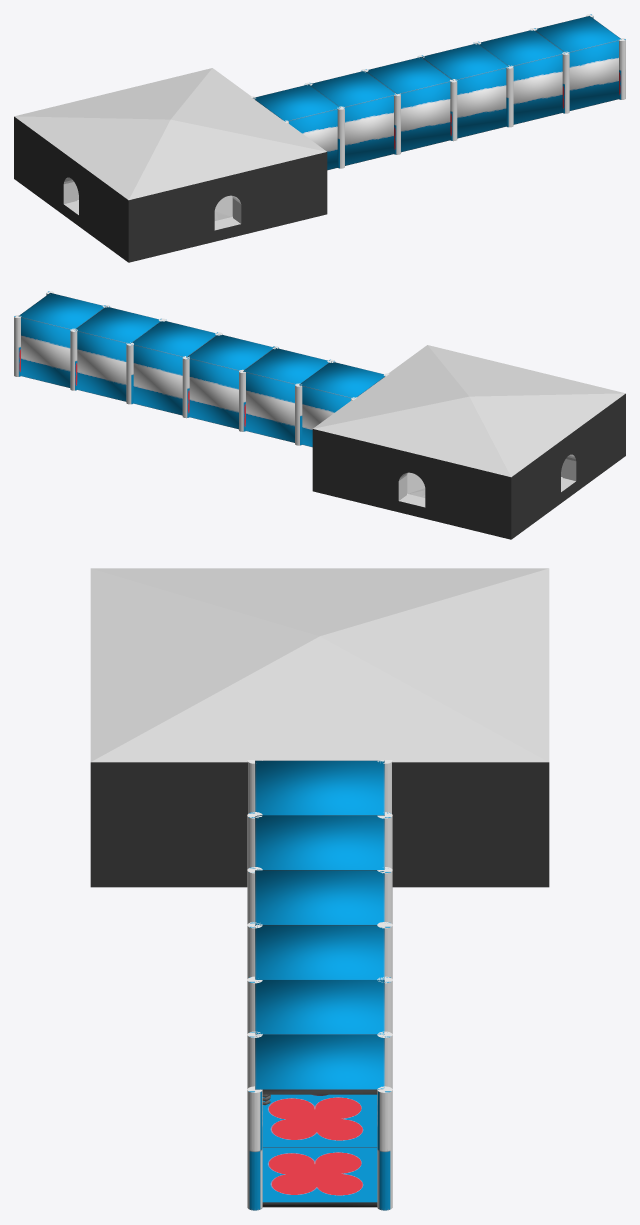
File: big_room_test.fbx
The picture shows the model from 3 angles, top to bottom: view 1: azimuth 30°, elevation 25°; view 2: azimuth 150°, elevation 25°; view 3: azimuth 270°, elevation 25°; orthographic projection. The views are drawn at different scales.
Visible parts, largest first — view 1: Cube.003, Cube.010, Cube.007, Cube.011, Cube.008, Cube.009, Cube.004; view 2: Cube.003, Cube.010, Cube.007, Cube.011, Cube.008, Cube.009, Cube.004; view 3: Cube.003, Cube.011, Cube.010, Cube.009, Cube.004, Cube.008, Cube.007.
Boxes of the visible parts, box(x1,y1,x2,y2) form: Cube.003: box(14, 68, 327, 262); Cube.010: box(473, 28, 569, 127); Cube.007: box(304, 69, 400, 168); Cube.011: box(531, 14, 625, 113); Cube.008: box(361, 55, 456, 154); Cube.009: box(422, 41, 513, 140); Cube.004: box(250, 83, 344, 170); Cube.003: box(312, 345, 625, 539); Cube.010: box(70, 305, 166, 404); Cube.007: box(239, 346, 335, 445); Cube.011: box(14, 291, 109, 390); Cube.008: box(182, 332, 278, 431); Cube.009: box(126, 318, 221, 417); Cube.004: box(295, 359, 389, 447); Cube.003: box(90, 568, 549, 887); Cube.011: box(247, 1031, 392, 1210); Cube.010: box(247, 976, 392, 1147); Cube.009: box(247, 922, 392, 1033); Cube.004: box(247, 760, 392, 869); Cube.008: box(247, 867, 392, 928); Cube.007: box(247, 812, 392, 873).
Bounding box in the file's own units: 16256 × 2224 × 6001.
